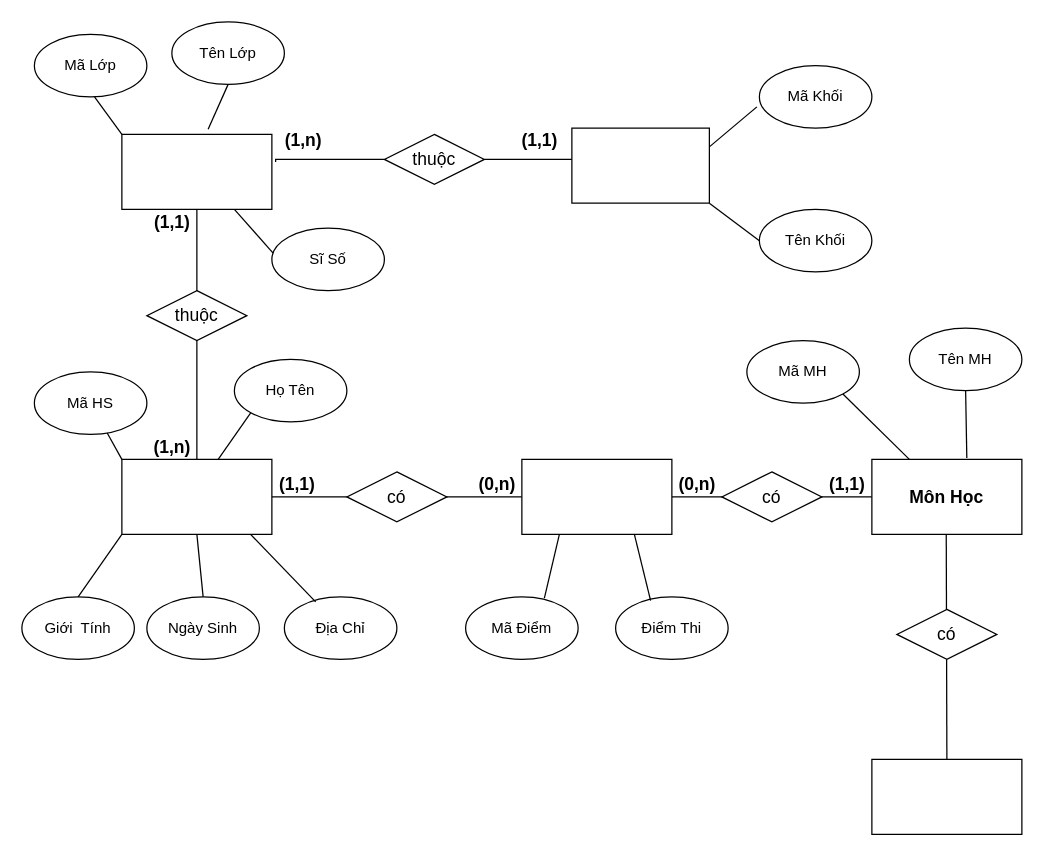
This 1044x856 diagram has some shape labels left out. The shapes that lost their labels are listed below. From the top down, each one's centre as x and y in pixels, then its label:
point (196, 171): Lớp
point (640, 165): Khối
point (196, 496): Học Sinh
point (596, 496): Điểm
point (946, 796): Giáo Viên
